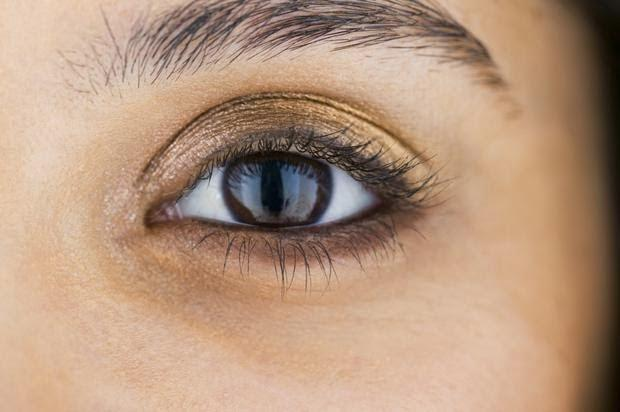Eyebags: (81, 69, 471, 386)
